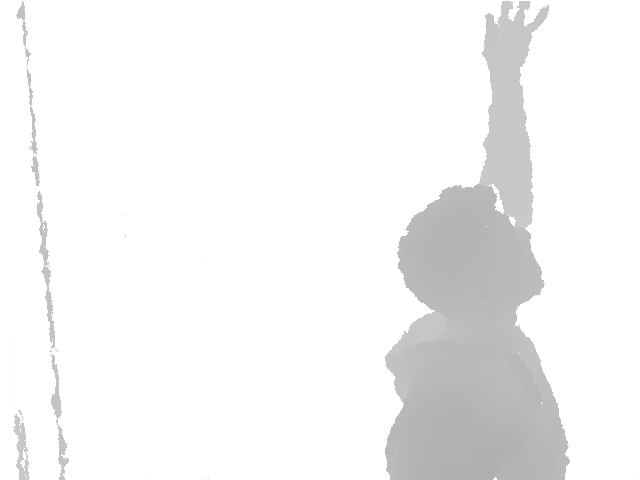hand: (482, 1, 551, 68)
head: (396, 183, 545, 316)
person: (384, 1, 571, 480)
